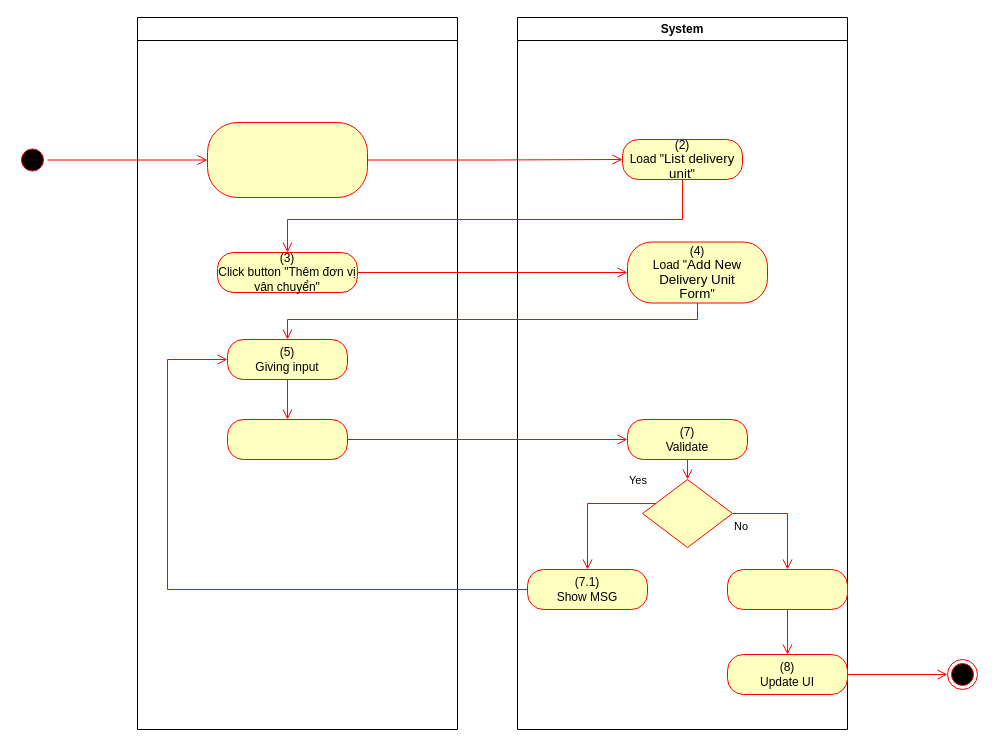
The diagram is 995 pixels wide and 747 high, and some of its shapes have lost their labels. Here are the shapes that lost their labels. From the top down, the box of each, then its label:
(206, 122, 368, 198): (1) On "left menu" click " Delivery Management – CRUD delivery unit "
(136, 16, 458, 730): User
(226, 418, 348, 460): (6) Click "Thêm"
(726, 568, 848, 610): (7.2) Push new delivery unit to DB
